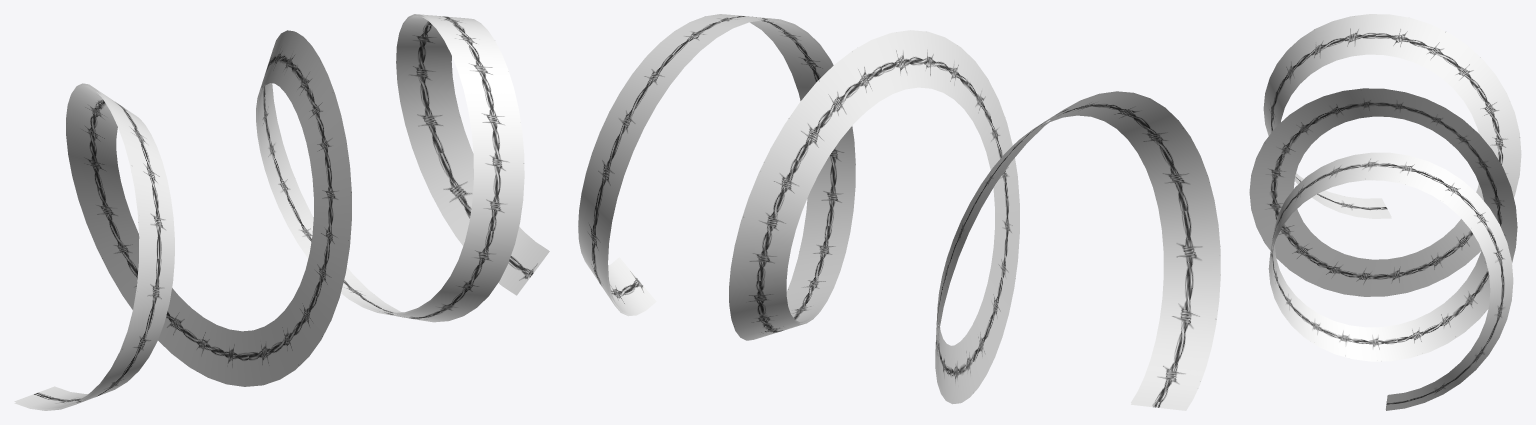
File: Alambre.FBX
3 renders of one model, left to right at view 1: azimuth 30°, elevation 25°; view 2: azimuth 150°, elevation 25°; view 3: azimuth 270°, elevation 25°, orthographic. The views are drawn at different scales.
Visible parts, largest first — view 1: Helix002; view 2: Helix002; view 3: Helix002.
Boxes of the visible parts, x1,y1,x2,y2 form: Helix002: [14, 14, 549, 410]; Helix002: [578, 14, 1220, 410]; Helix002: [1249, 14, 1521, 410].
Bounding box in the file's own units: 85.26 × 46.56 × 46.51.
